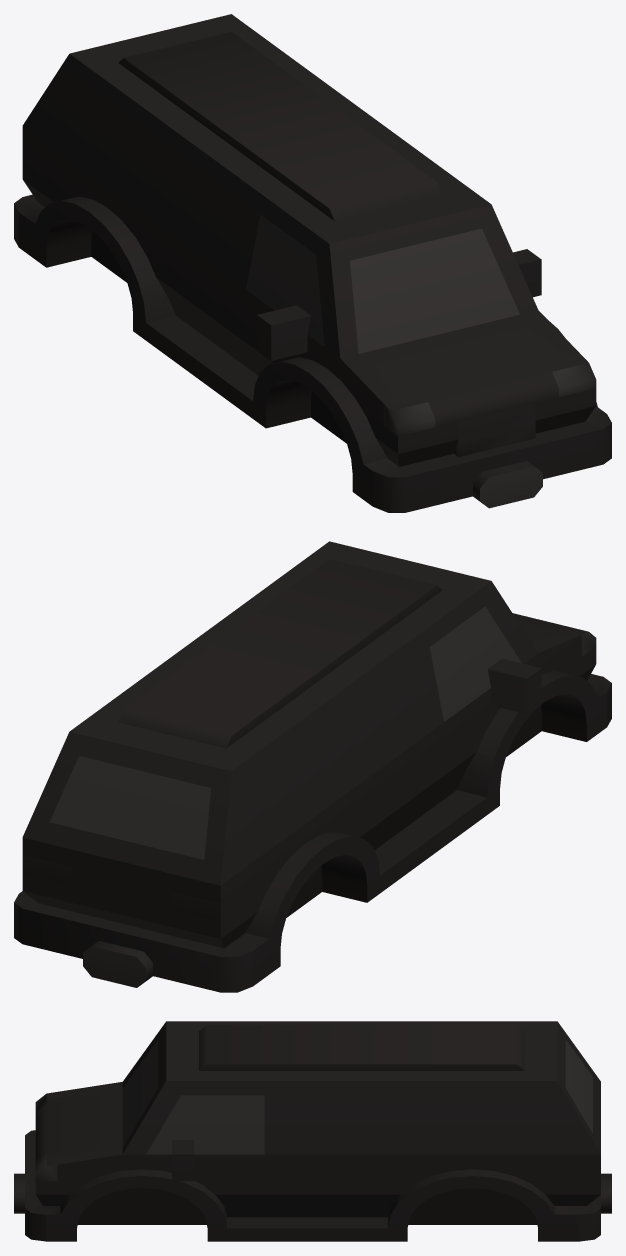
The model's file is van_burnt.glb.
3 renders of one model, top to bottom at view 1: azimuth 30°, elevation 25°; view 2: azimuth 150°, elevation 25°; view 3: azimuth 270°, elevation 25°, orthographic. The views are drawn at different scales.
Parts seen in each view (by area): view 1: body; view 2: body; view 3: body.
Boxes of the visible parts, x1,y1,x2,y2 form: body: [14, 14, 611, 512]; body: [14, 541, 611, 992]; body: [14, 1021, 611, 1241].
Size of the model in its own units: 1.9 by 1.44 by 4.84.
Materials: 1 (1 with a texture image).
